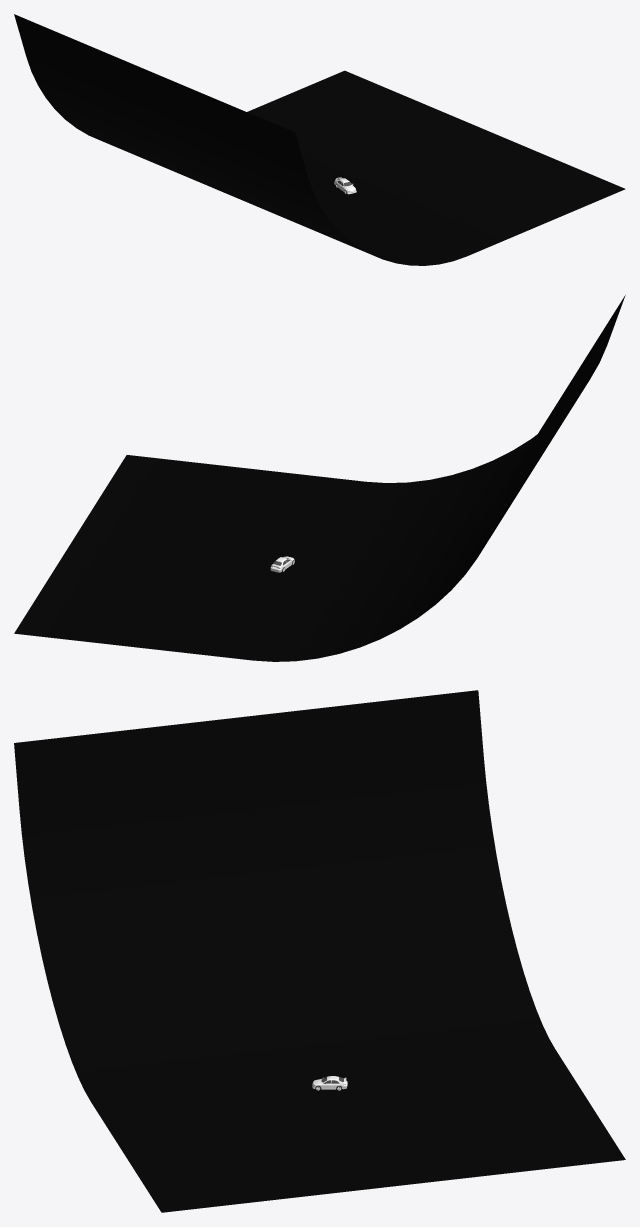
The model's file is frigorifico-combinado-samsung.glb.
3 views of the same model, one above another, from view 1: azimuth 30°, elevation 25°; view 2: azimuth 150°, elevation 25°; view 3: azimuth 270°, elevation 25° (orthographic). The views are drawn at different scales.
Visible parts, largest first — view 1: Plane; view 2: Plane; view 3: Plane.
Boxes of the visible parts, x1,y1,x2,y2 form: Plane: (14, 14, 625, 265); Plane: (14, 295, 625, 661); Plane: (14, 690, 625, 1212).
Size of the model in its own units: 112 by 43.74 by 102.
Materials: 14 (1 with a texture image).
